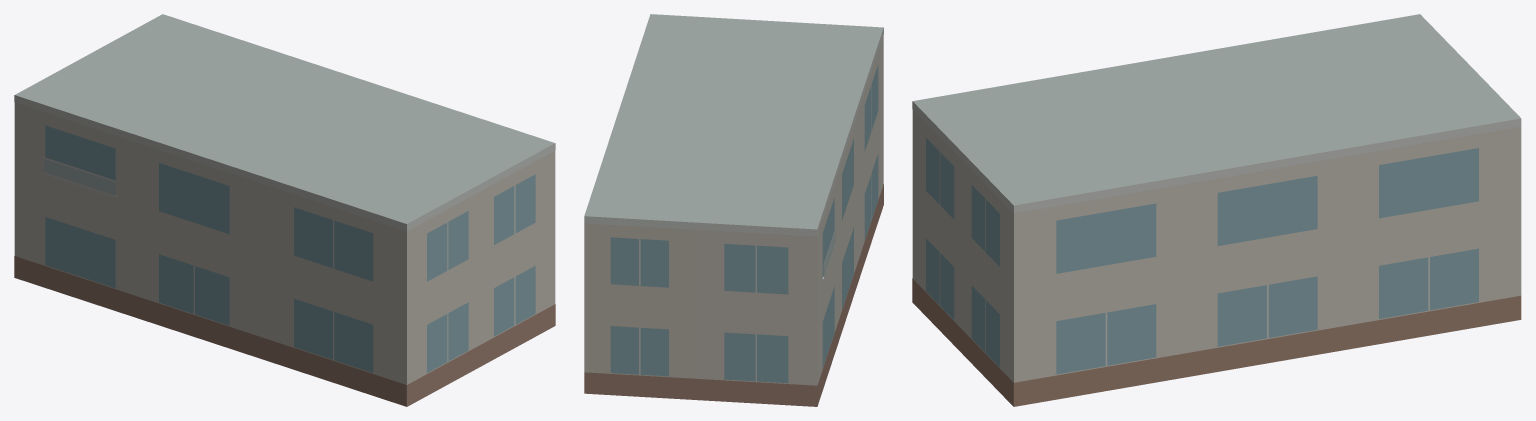
Rendered from survey-upis-32802010.glb.
3 views of the same model, side by side, from view 1: azimuth 30°, elevation 25°; view 2: azimuth 150°, elevation 25°; view 3: azimuth 270°, elevation 25° (orthographic). The views are drawn at different scales.
Parts seen in each view (by area): view 1: survey-upis-32802010.tmp; view 2: survey-upis-32802010.tmp; view 3: survey-upis-32802010.tmp.
Boxes of the visible parts, x1,y1,x2,y2 form: survey-upis-32802010.tmp: [14, 14, 555, 406]; survey-upis-32802010.tmp: [584, 14, 883, 406]; survey-upis-32802010.tmp: [912, 14, 1521, 406].
Bounding box in the file's own units: 12.46 × 6.1 × 16.73.
